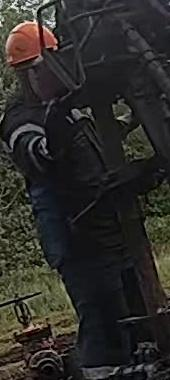gloves: (31, 98, 92, 164)
helmet: (4, 20, 58, 66)
vest: (0, 97, 98, 240)
